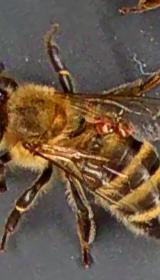varroa_mite: (114, 114, 130, 144), (94, 108, 110, 134)
